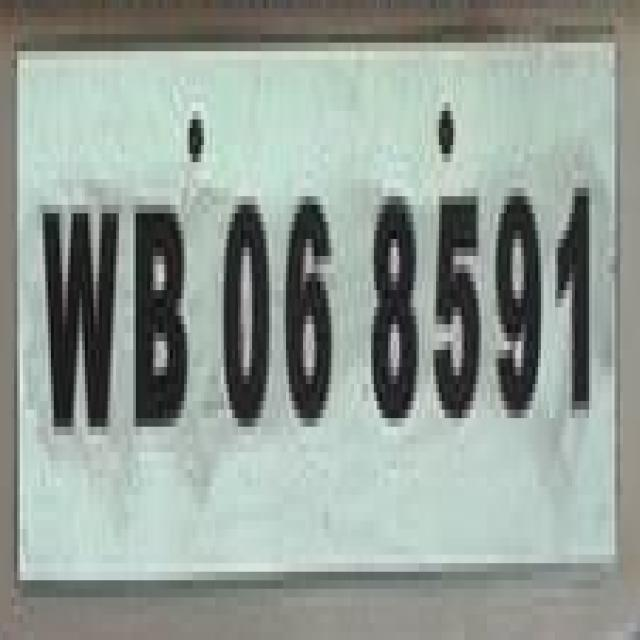license_plate: (22, 51, 640, 563)
